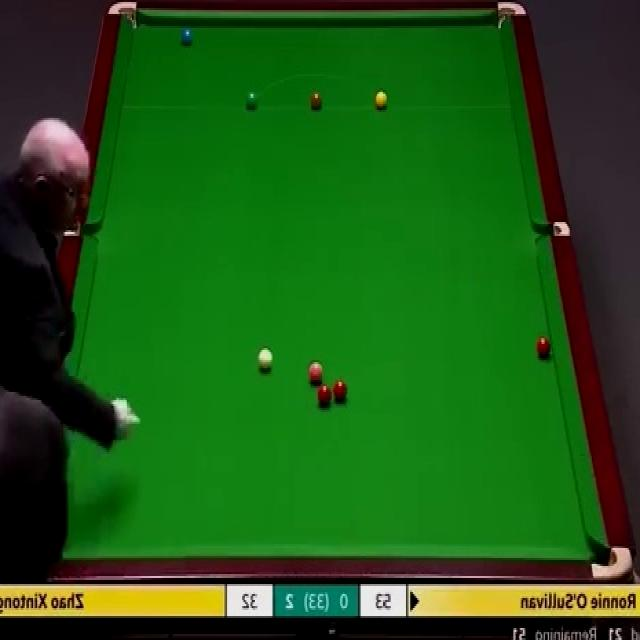blue-ball: (180, 27, 194, 46)
brown-ball: (310, 92, 323, 109)
green-ball: (244, 88, 258, 112)
pink-ball: (308, 361, 324, 384)
red-ball: (317, 383, 331, 410), (535, 335, 551, 358), (333, 378, 348, 401)
white-ball: (256, 348, 274, 373)
yellow-ball: (374, 89, 388, 110)
